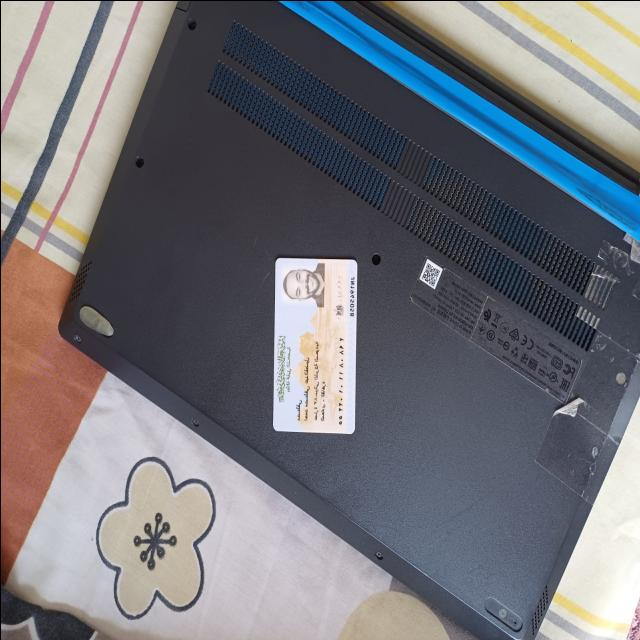ID-cards: (270, 249, 360, 436)
